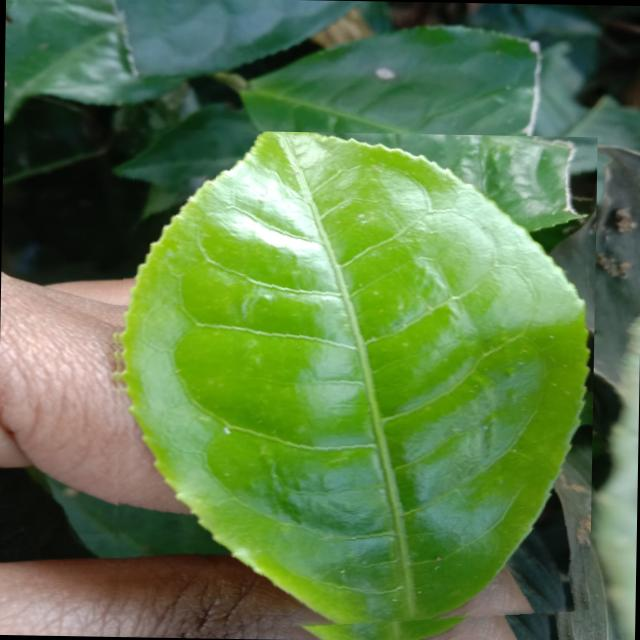Category B 2-4 days: (104, 128, 597, 640)
